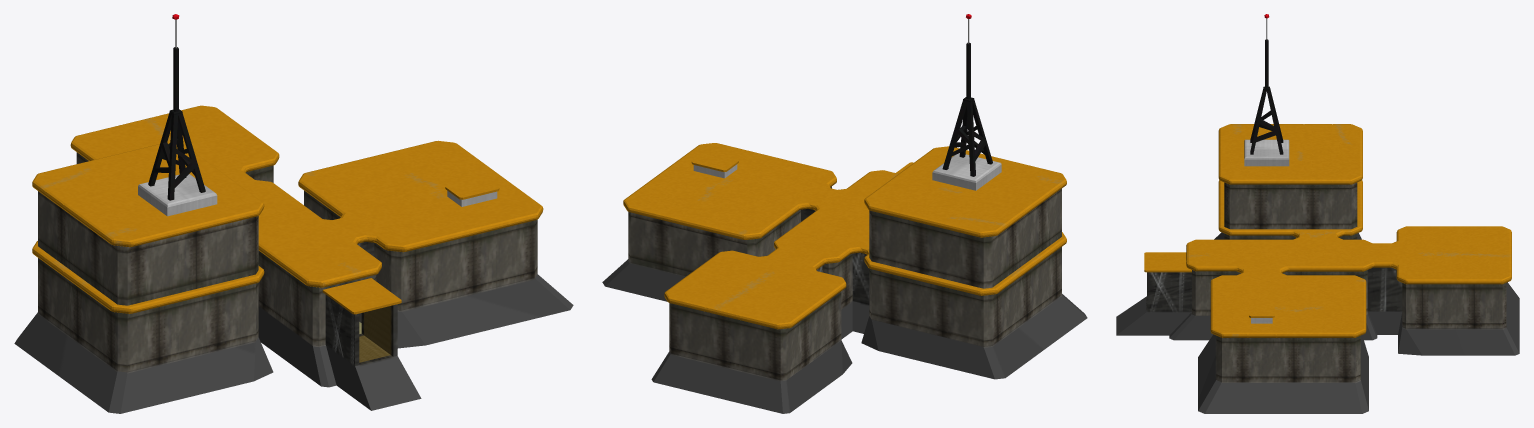
File: base_beta.glb
3 views of the same model, side by side, from view 1: azimuth 30°, elevation 25°; view 2: azimuth 150°, elevation 25°; view 3: azimuth 270°, elevation 25° (orthographic). The views are drawn at different scales.
Parts seen in each view (by area): view 1: BaseBeta; view 2: BaseBeta; view 3: BaseBeta.
Part boxes in pixels (bbox=[...]): BaseBeta: bbox=[14, 14, 573, 413]; BaseBeta: bbox=[602, 14, 1087, 413]; BaseBeta: bbox=[1116, 14, 1519, 413].
Bounding box in the file's own units: 21.6 × 15.68 × 21.51.
Materials: 1 (1 with a texture image).
